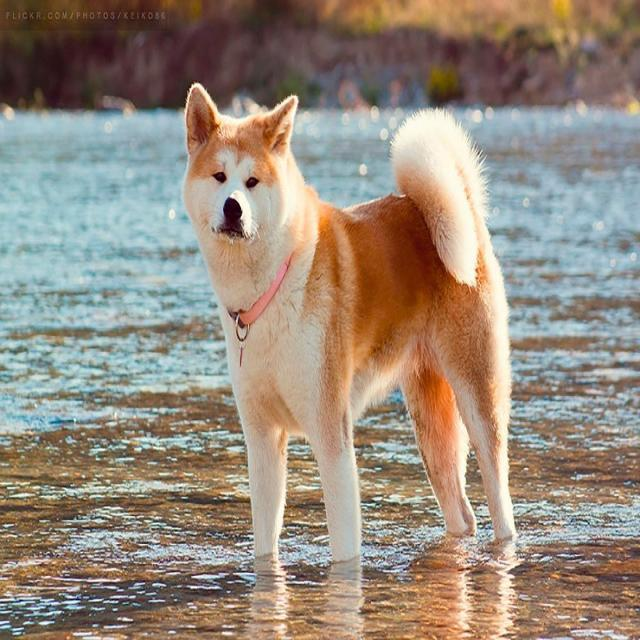Not_a_Chicken: (156, 65, 532, 596)
